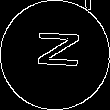N_W: (29, 34, 81, 76)
